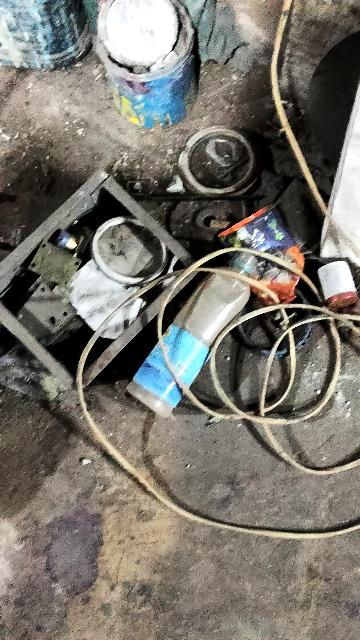bottle: (124, 237, 270, 410)
